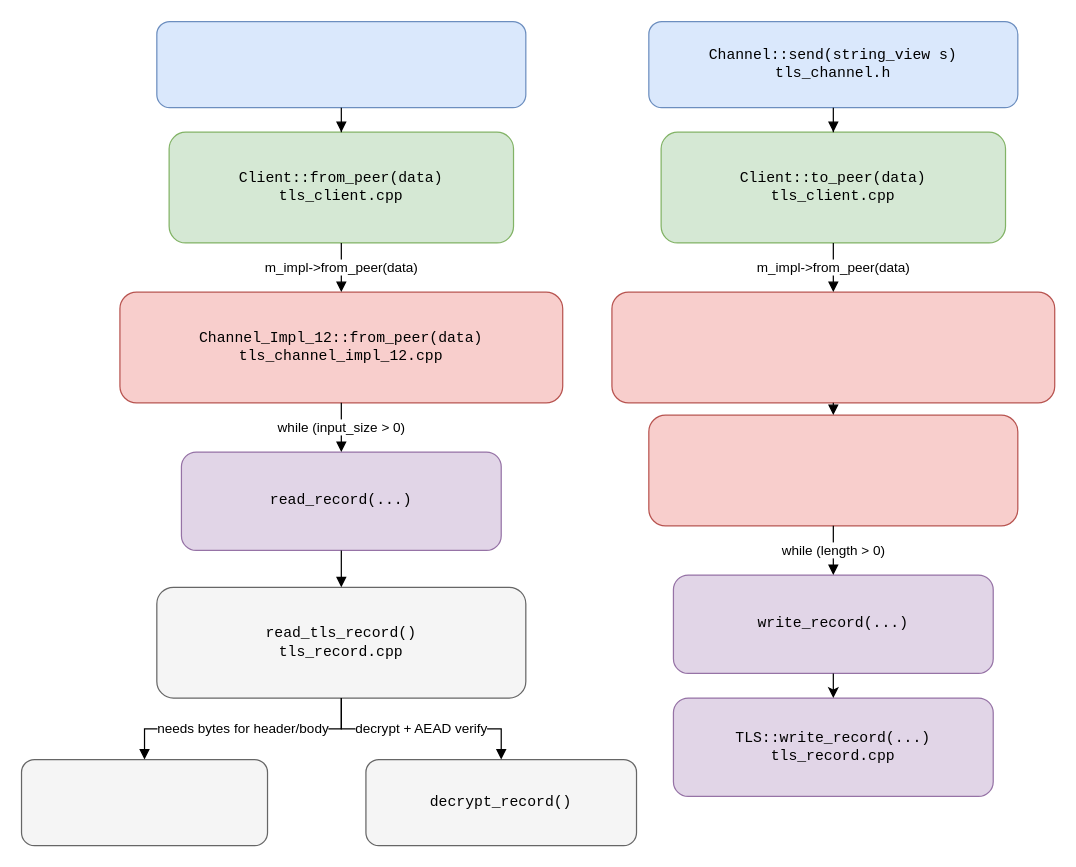
This 1076x867 diagram has some shape labels left out. The centre of each missing label's shape, as x and y in pixels:
"Channel::received_data(buf,size) tls_channel.h" belongs at [341,64].
"Channel_Impl_12::send_record_array(...) tls_channel_impl_12.cpp" belongs at [833,470].
"Channel_Impl_12::to_peer(data) tls_channel_impl_12.cpp" belongs at [833,347].
"fill_buffer_to()" belongs at [144,802].
